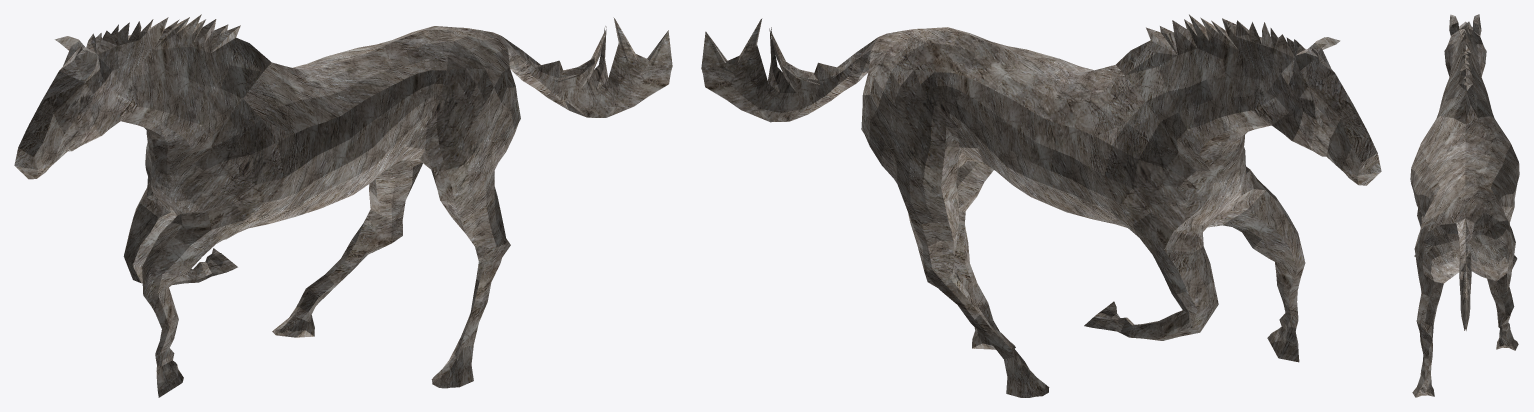
The picture shows the model from 3 angles, left to right: view 1: azimuth 30°, elevation 25°; view 2: azimuth 150°, elevation 25°; view 3: azimuth 270°, elevation 25°; orthographic projection. The views are drawn at different scales.
Visible parts, largest first — view 1: run_0; view 2: run_0; view 3: run_0.
Part boxes in pixels (bbox=[...]): run_0: bbox=[14, 14, 672, 397]; run_0: bbox=[701, 14, 1381, 397]; run_0: bbox=[1410, 14, 1519, 397].
Bounding box in the file's own units: 3.28 × 1.94 × 0.7093.
1 material, 1 textured.
